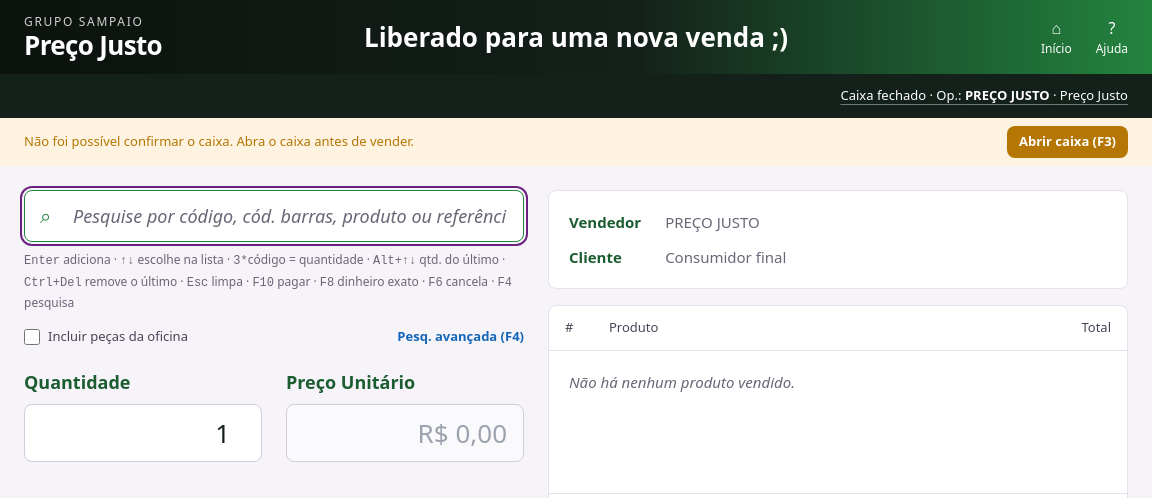
Test case: D-13: leitura sem item não deixa quantidade e preço para o próximo › "3*cabo" e Esc: a quantidade volta a 1
In the field labelled "Pesquise por código, cód. barras, produto ou referência": (274, 216) 24,190 -> 524,242, type "3*cabo"
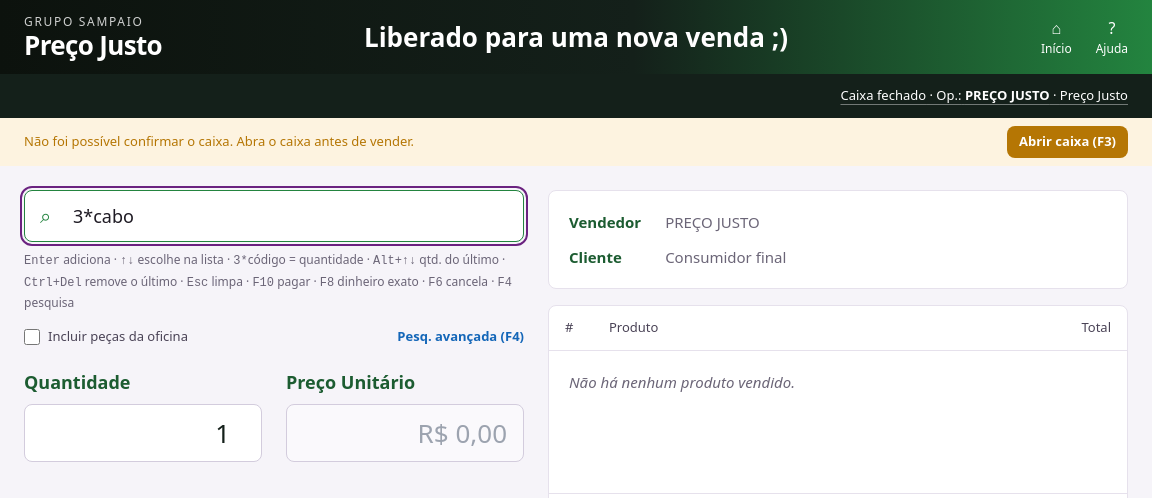
Press Enter in the field named "Pesquise por código", box 24,190 -> 524,242
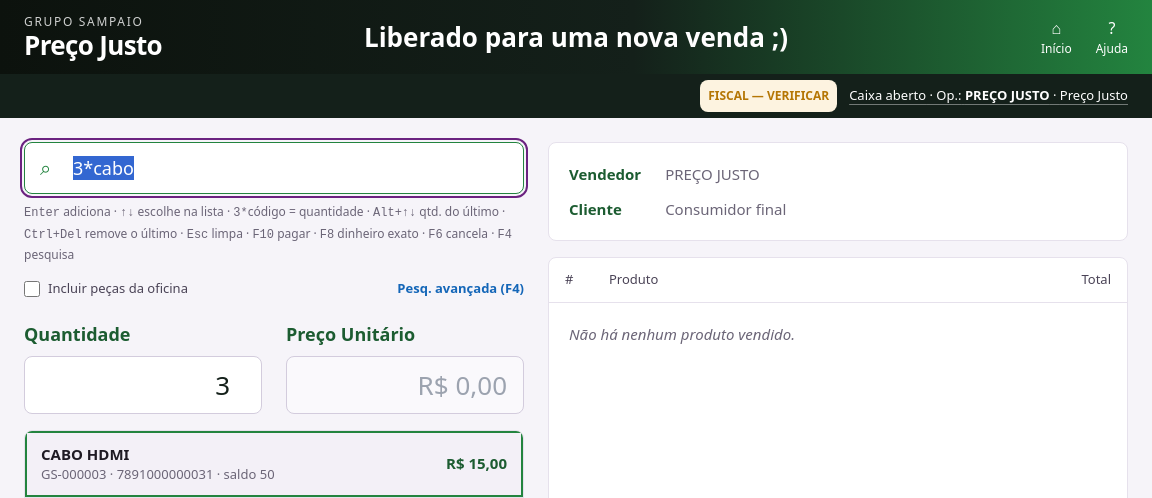
Result: the number field labelled "Quantidade" holds "3" at 24,356 -> 262,414
Press Escape in the field named "Pesquise por código", box 24,142 -> 524,194
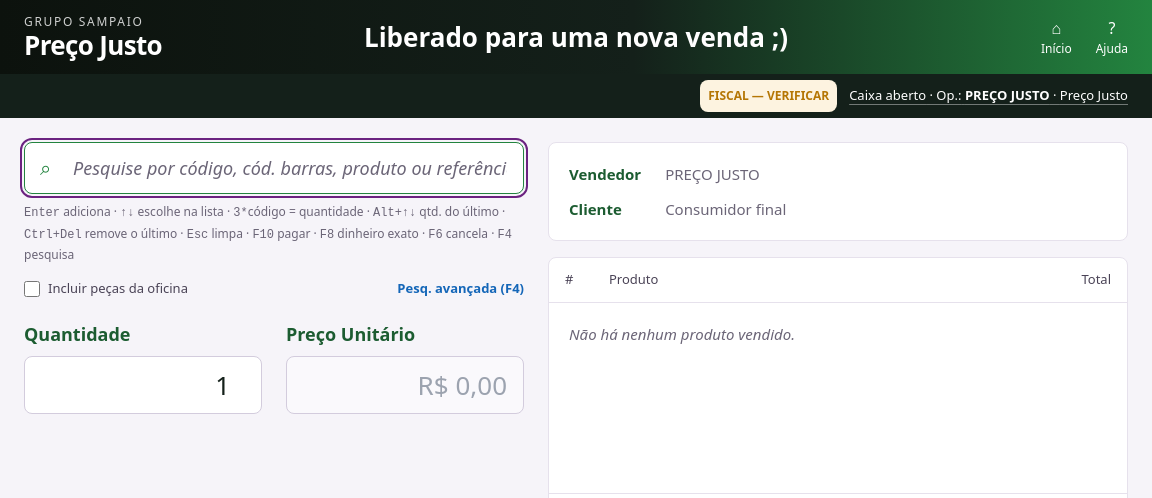
Result: the number field labelled "Quantidade" holds "1" at 24,356 -> 262,414
